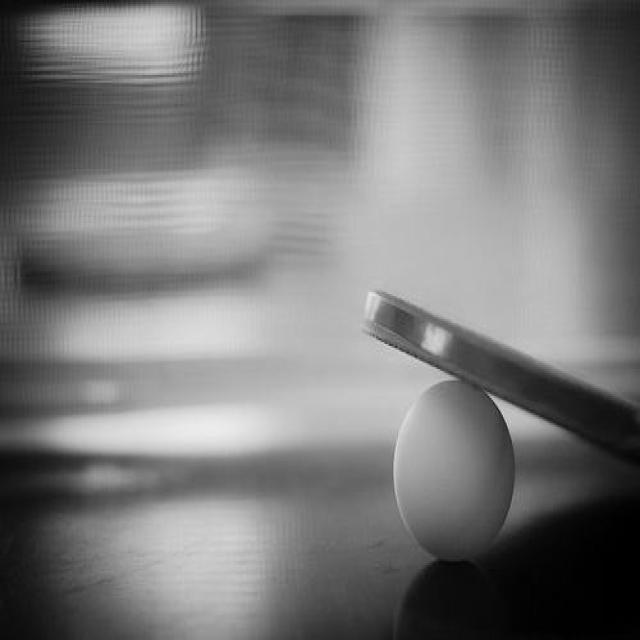ping-pong-ball: (392, 378, 518, 566)
